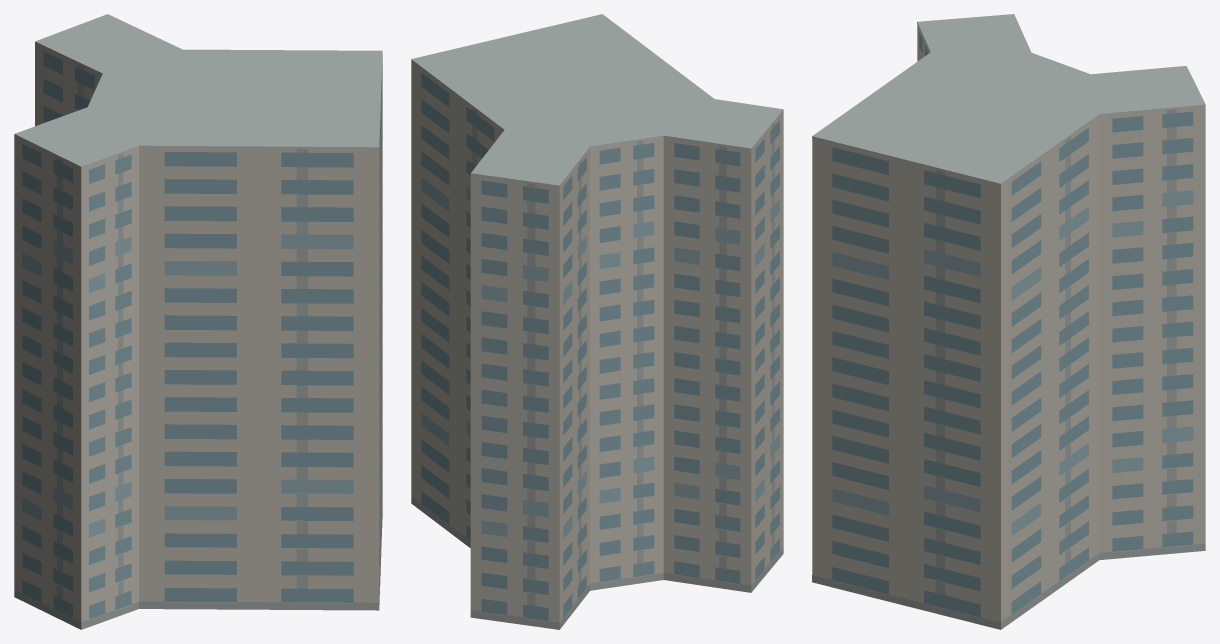
Rendered from residential-854b77b7-910d-47a7-a05d-5d51975fae97.glb.
3 views of the same model, side by side, from view 1: azimuth 30°, elevation 25°; view 2: azimuth 150°, elevation 25°; view 3: azimuth 270°, elevation 25° (orthographic). The views are drawn at different scales.
Visible parts, largest first — view 1: residential-854b77b7-910d-47a7-a05d-5d51975fae97.tmp; view 2: residential-854b77b7-910d-47a7-a05d-5d51975fae97.tmp; view 3: residential-854b77b7-910d-47a7-a05d-5d51975fae97.tmp.
Part boxes in pixels (bbox=[...]): residential-854b77b7-910d-47a7-a05d-5d51975fae97.tmp: bbox=[14, 14, 382, 629]; residential-854b77b7-910d-47a7-a05d-5d51975fae97.tmp: bbox=[411, 14, 783, 629]; residential-854b77b7-910d-47a7-a05d-5d51975fae97.tmp: bbox=[812, 14, 1205, 629].
Size of the model in its own units: 44.09 by 54 by 43.19.
